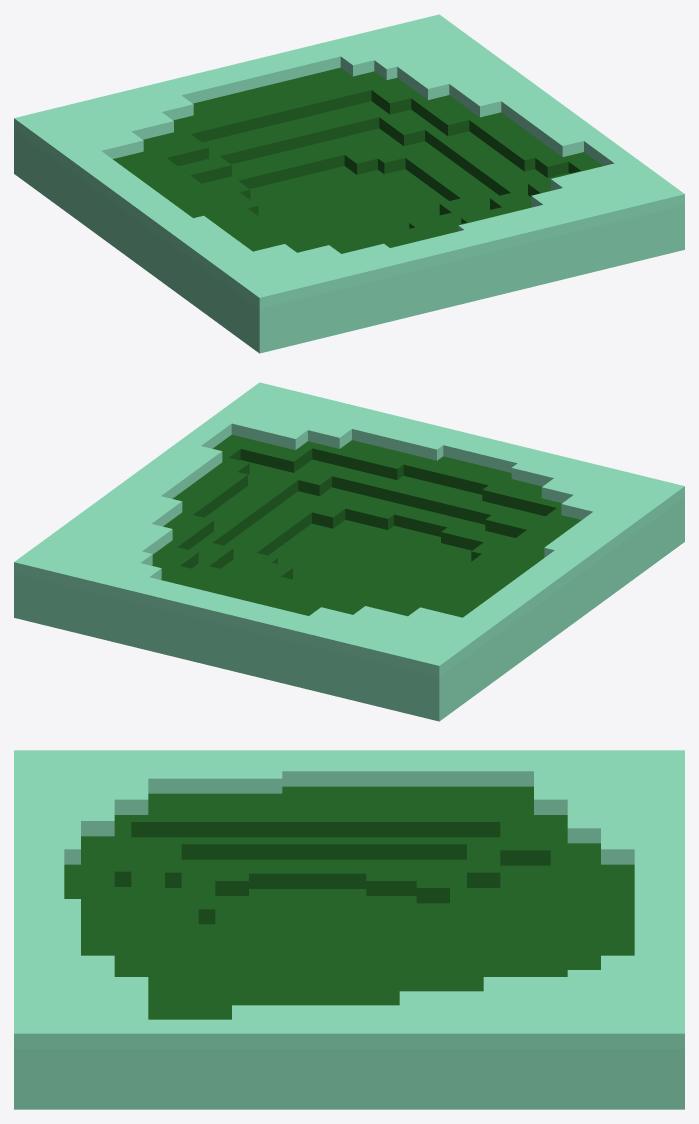
The model's file is Lake.obj.
3 renders of one model, top to bottom at view 1: azimuth 30°, elevation 25°; view 2: azimuth 150°, elevation 25°; view 3: azimuth 270°, elevation 25°, orthographic. The views are drawn at different scales.
Bounding box in the file's own units: 4 × 0.5 × 4.
